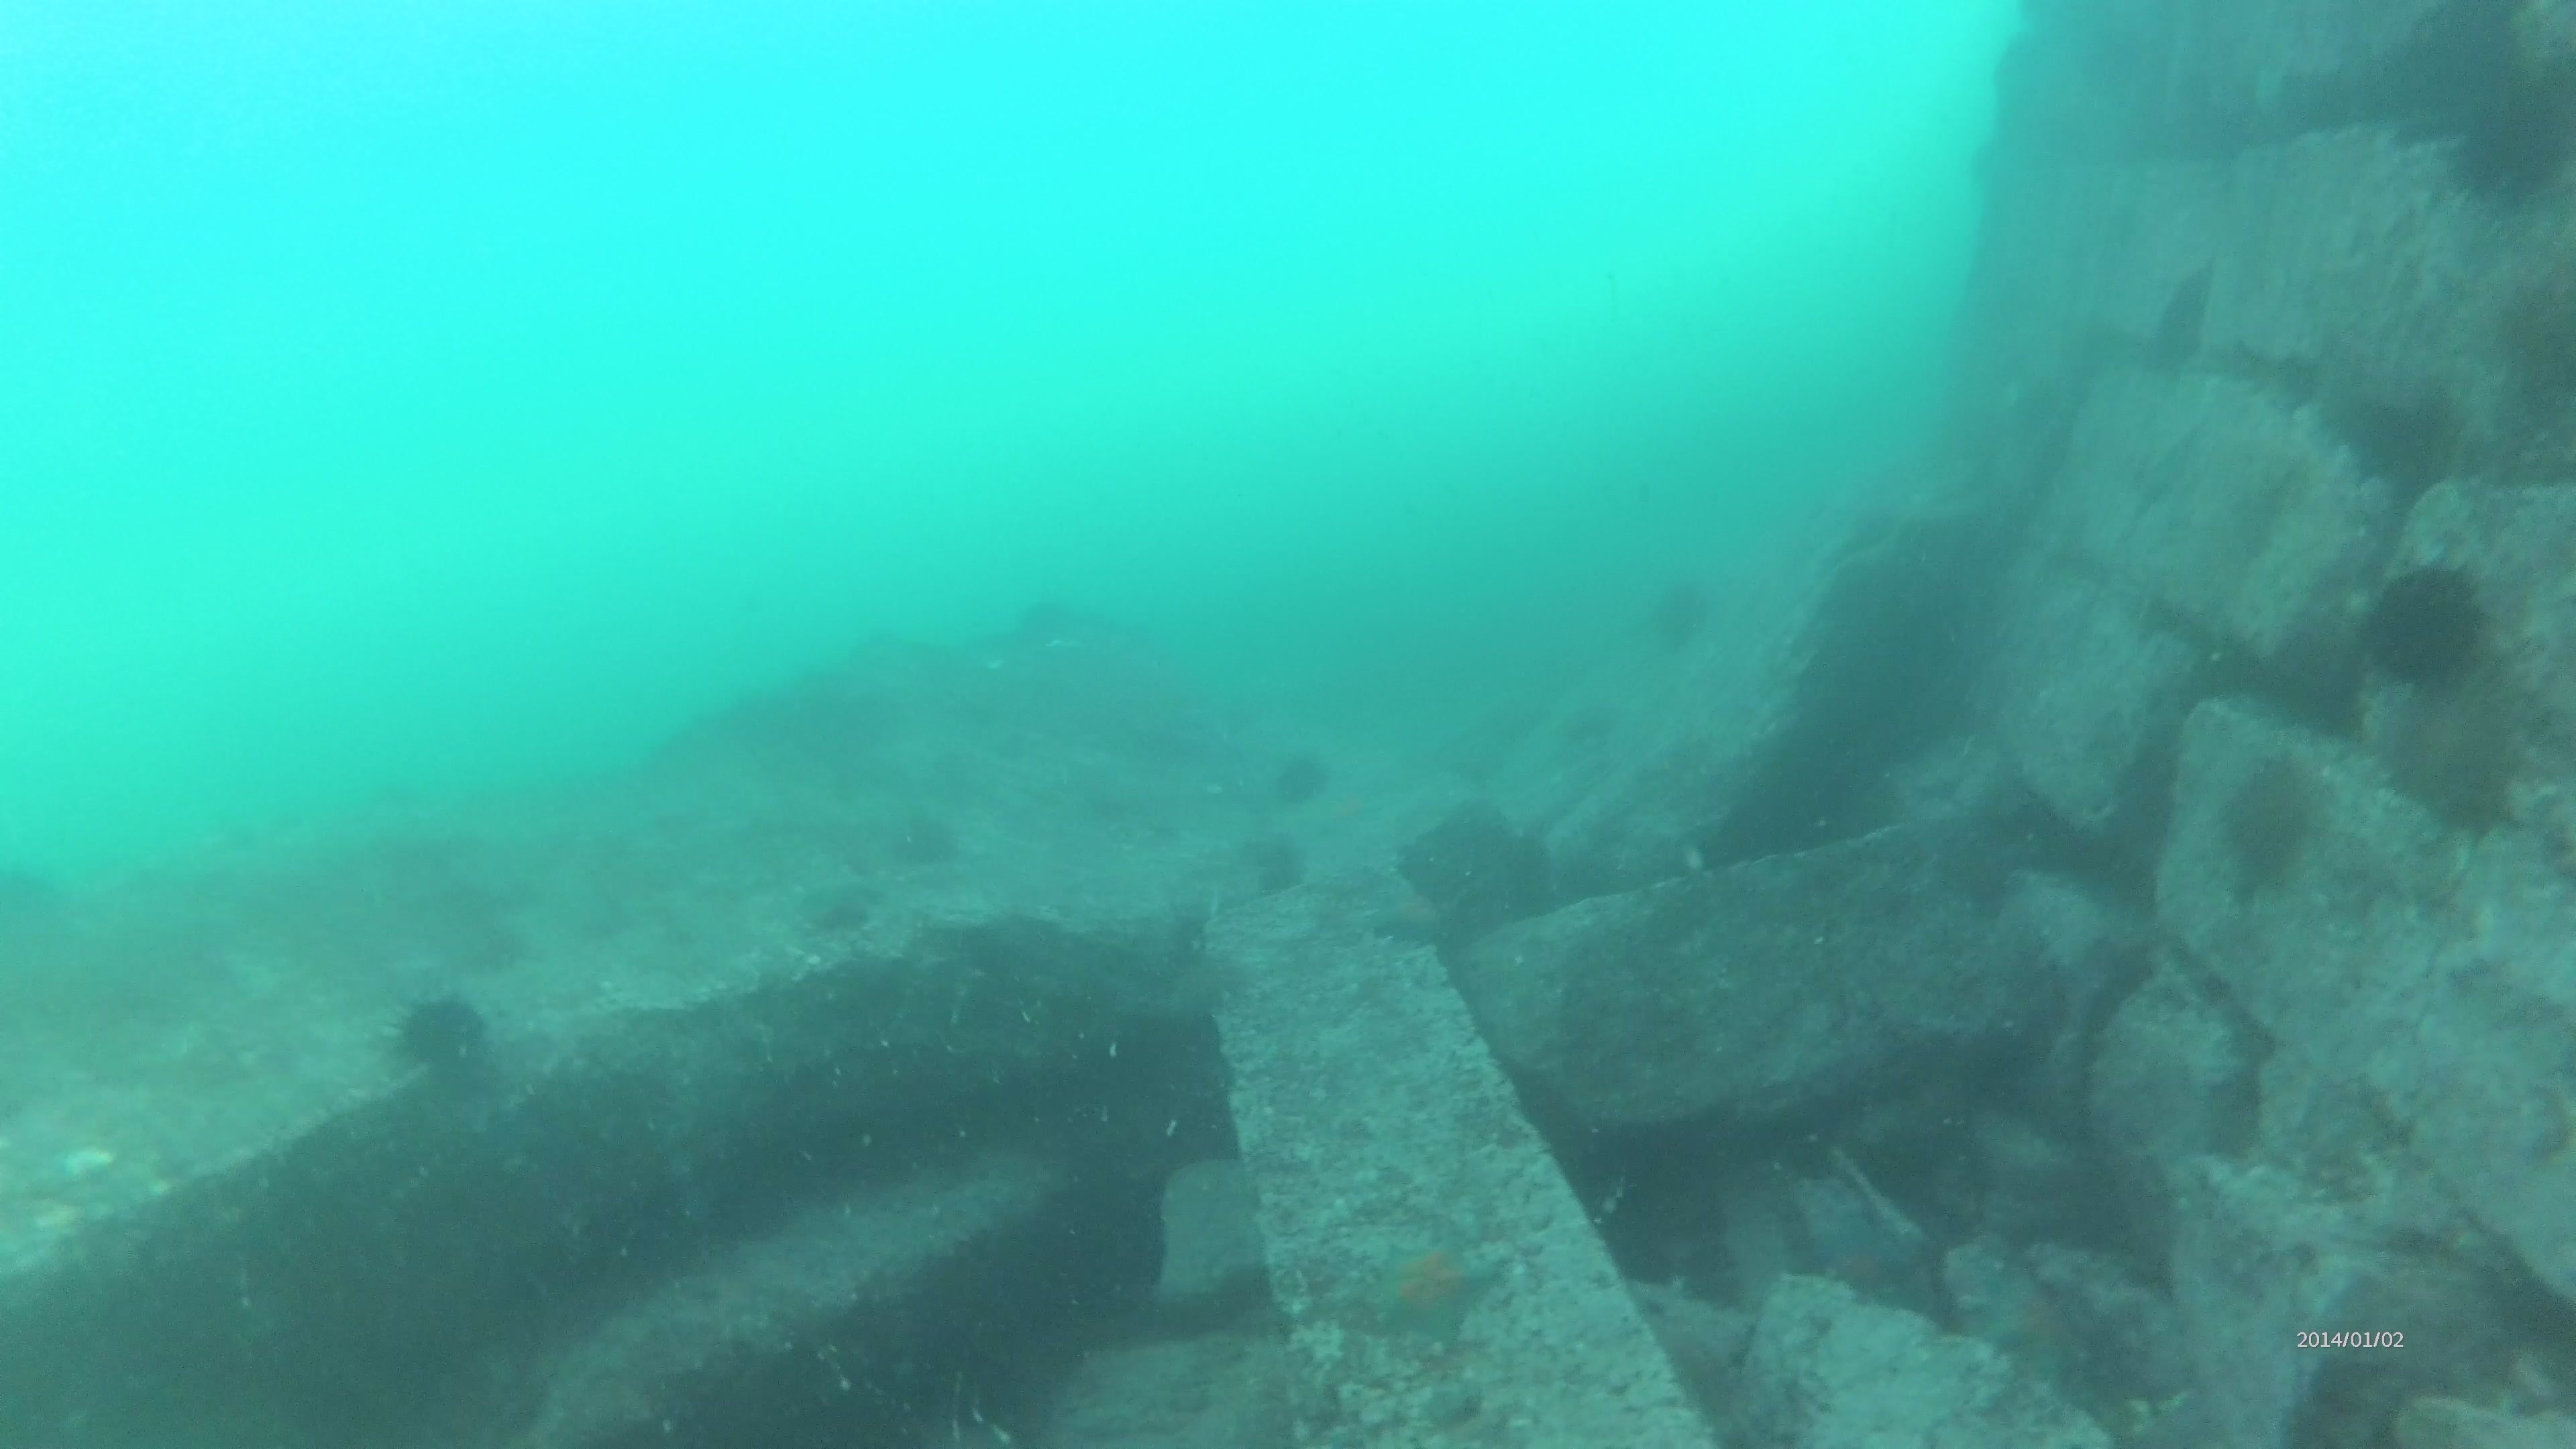echinus: (2365, 672, 2530, 832), (2440, 57, 2572, 216), (2357, 556, 2498, 694), (2210, 752, 2332, 893), (384, 984, 501, 1090), (1638, 570, 1721, 658), (1240, 830, 1313, 901), (1265, 741, 1336, 810)
starfish: (1353, 1223, 1507, 1350), (1959, 1247, 2093, 1380), (1361, 874, 1453, 952)
